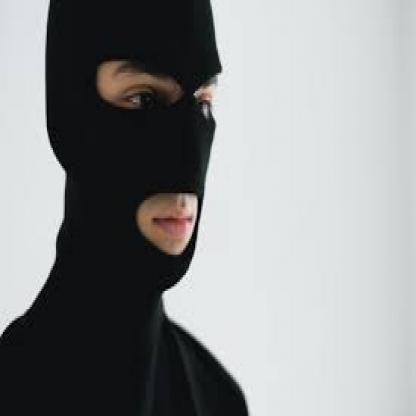criminal: (0, 0, 250, 416)
